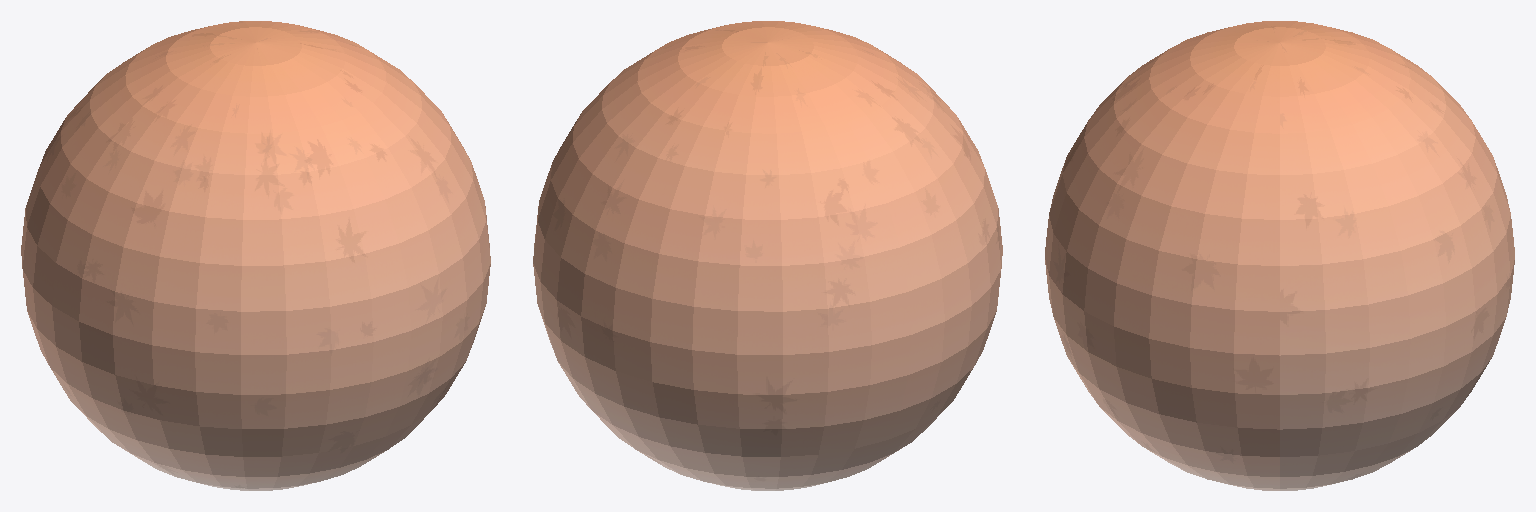
The picture shows the model from 3 angles: view 1: azimuth 30°, elevation 25°; view 2: azimuth 150°, elevation 25°; view 3: azimuth 270°, elevation 25°; orthographic projection.
Parts seen in each view (by area): view 1: sphere; view 2: sphere; view 3: sphere.
Boxes of the visible parts, box(x1,y1,x2,y2) form: sphere: box(21, 21, 490, 490); sphere: box(533, 21, 1002, 490); sphere: box(1045, 21, 1514, 490).
Bounding box in the file's own units: 100 × 100 × 100.
1 materials, 1 textured.